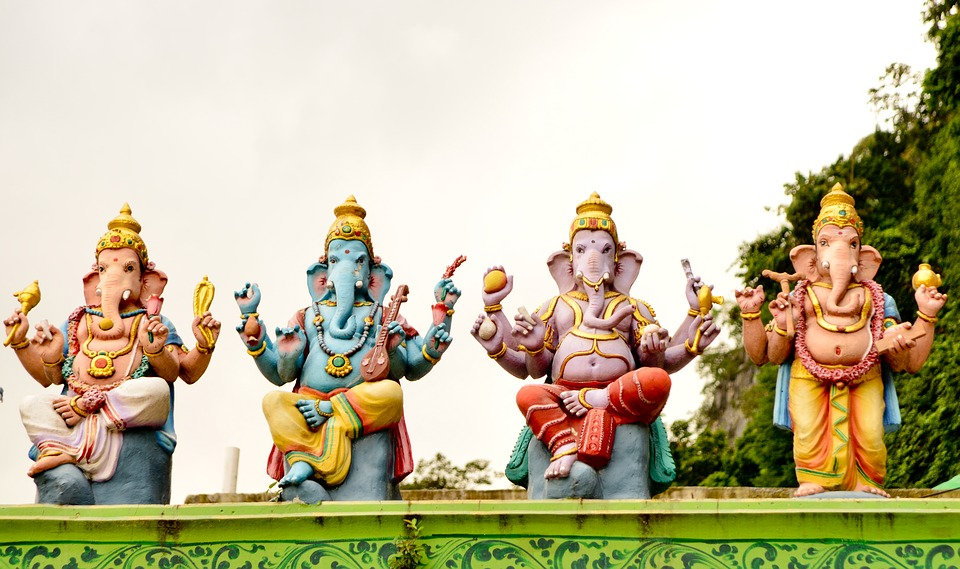Hindu Temple: (44, 188, 943, 490)
